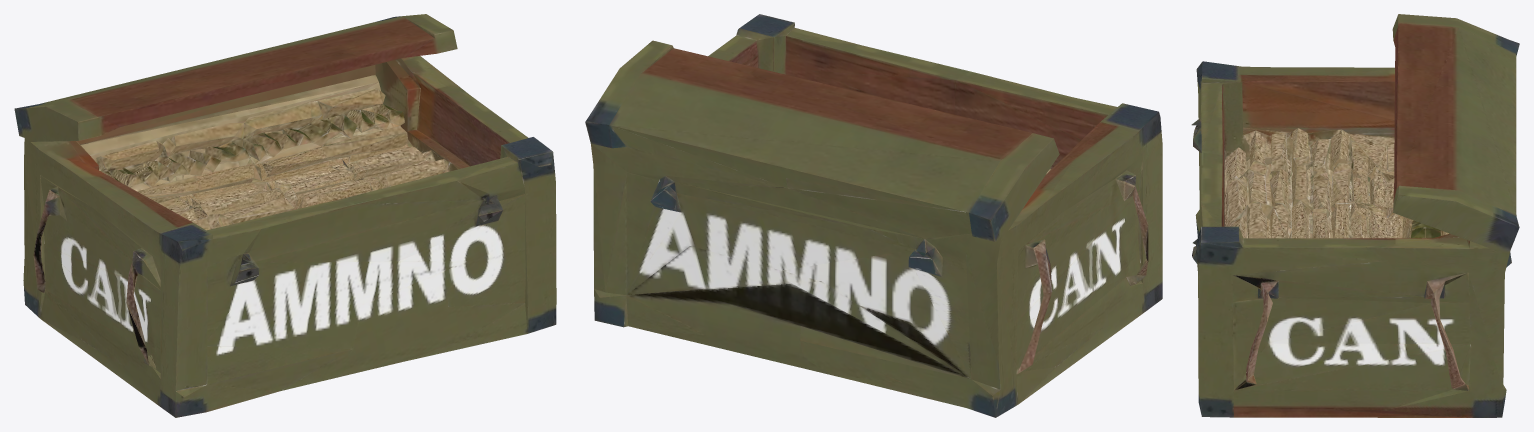
Rendered from ammo_crate.glb.
3 views of the same model, side by side, from view 1: azimuth 30°, elevation 25°; view 2: azimuth 150°, elevation 25°; view 3: azimuth 270°, elevation 25° (orthographic). The views are drawn at different scales.
Size of the model in its own units: 1.9 by 0.9794 by 1.31.
1 material, 1 textured.
